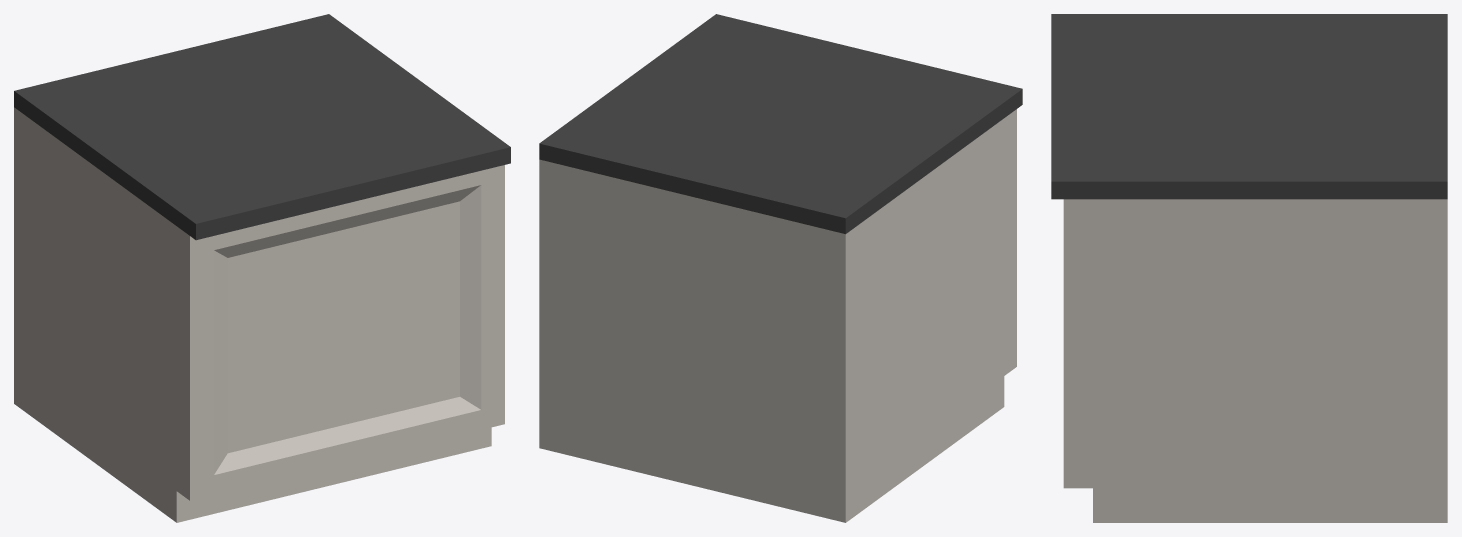
Rendered from SM_Prop_Kitchen_Counter_02.fbx.
3 renders of one model, left to right at view 1: azimuth 30°, elevation 25°; view 2: azimuth 150°, elevation 25°; view 3: azimuth 270°, elevation 25°, orthographic. The views are drawn at different scales.
Visible parts, largest first — view 1: SM_Prop_Kitchen_Counter_02; view 2: SM_Prop_Kitchen_Counter_02; view 3: SM_Prop_Kitchen_Counter_02.
Part boxes in pixels (x1=…): SM_Prop_Kitchen_Counter_02: x1=14, y1=14, x2=510, y2=522; SM_Prop_Kitchen_Counter_02: x1=539, y1=14, x2=1022, y2=522; SM_Prop_Kitchen_Counter_02: x1=1051, y1=14, x2=1447, y2=522.
Bounding box in the file's own units: 100 × 94.96 × 100.
